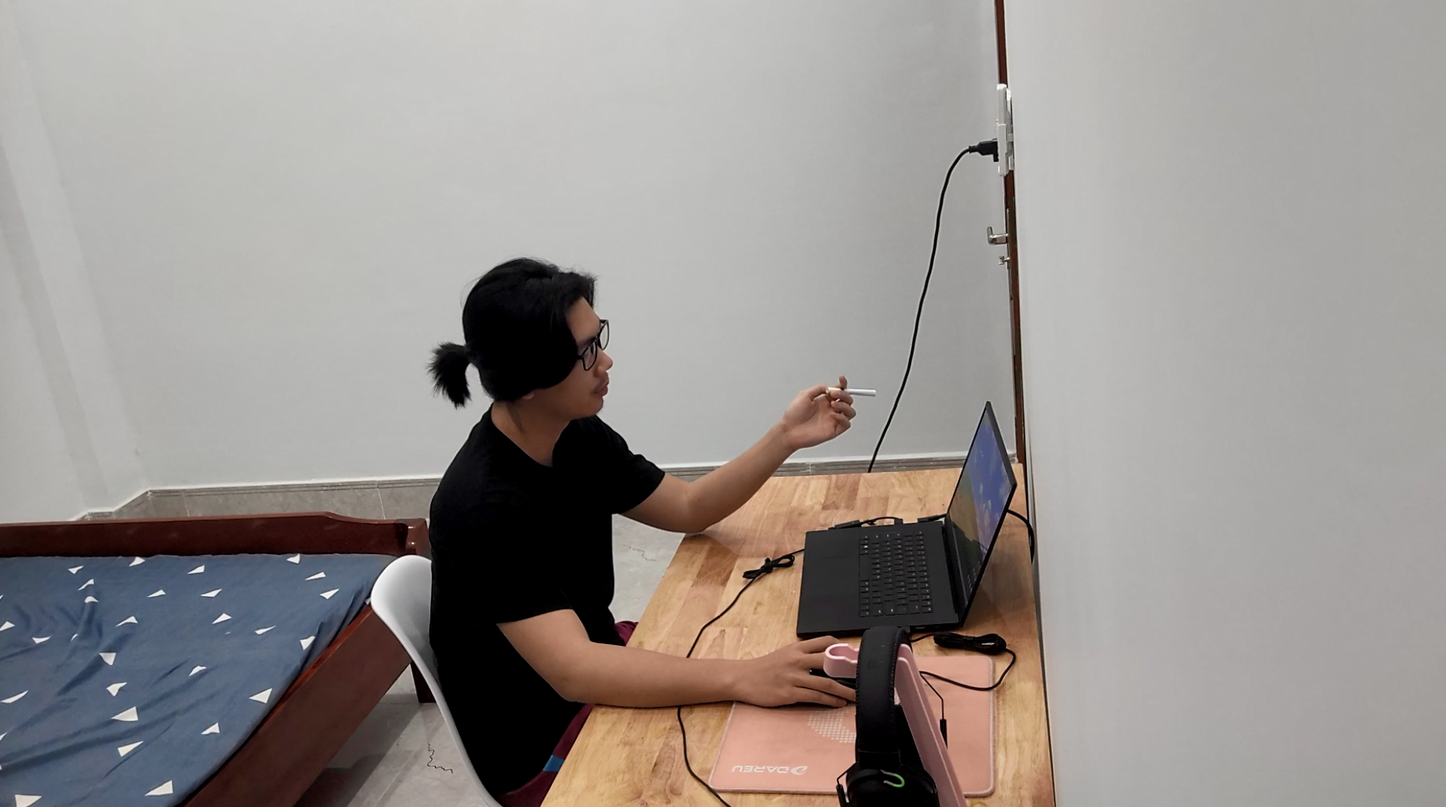cigarette: (827, 384, 885, 399)
person: (389, 236, 725, 807)
